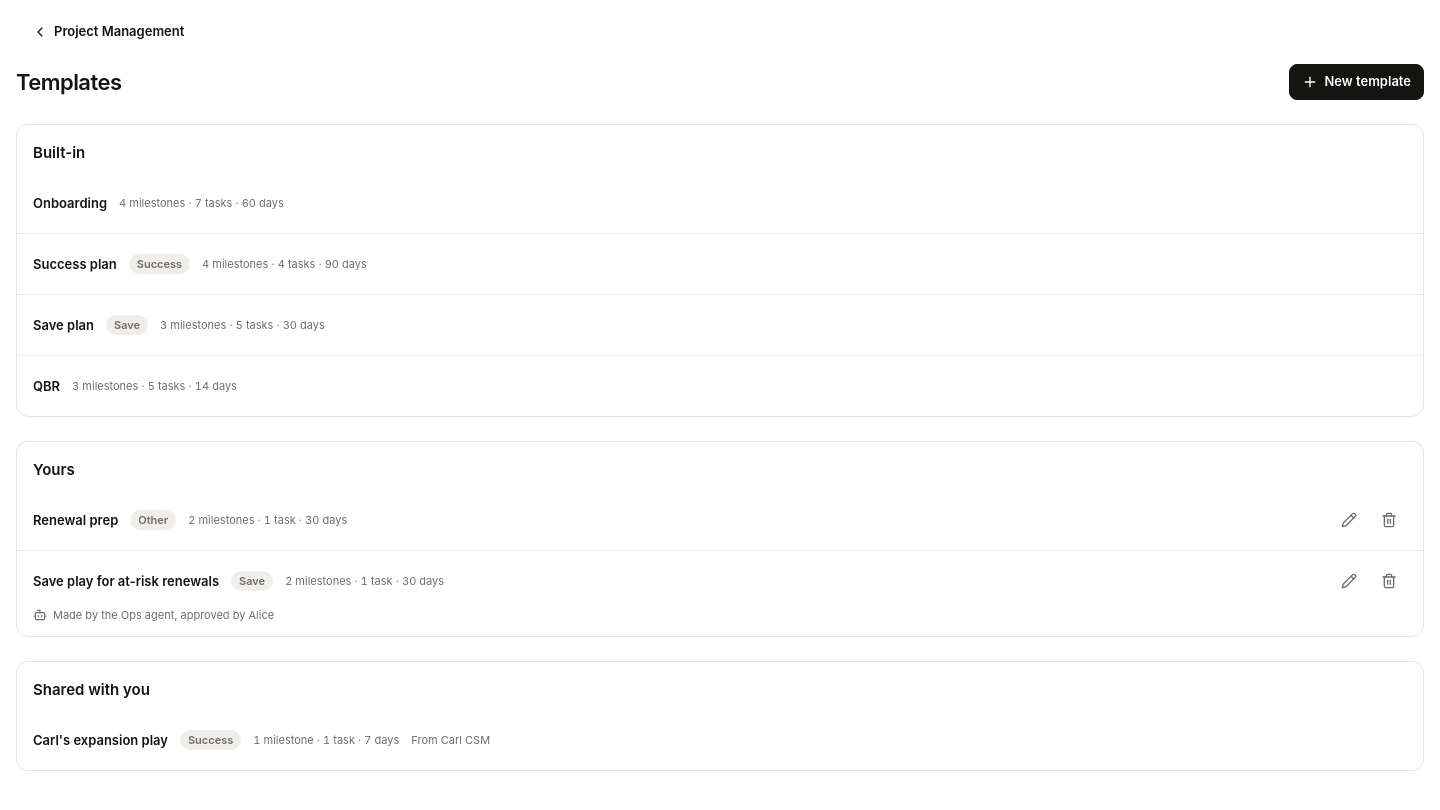
templates (spec §2.4) › says an agent wrote a template, on its row and in its editor (Agents delivery 3)
Expected: the element showing "Made by the Ops agent, approved by Alice" is shown, [33,608,274,622]
Click the link named "Edit Save play for at-risk renewals" at (1349, 581), box [1341,573,1357,589]
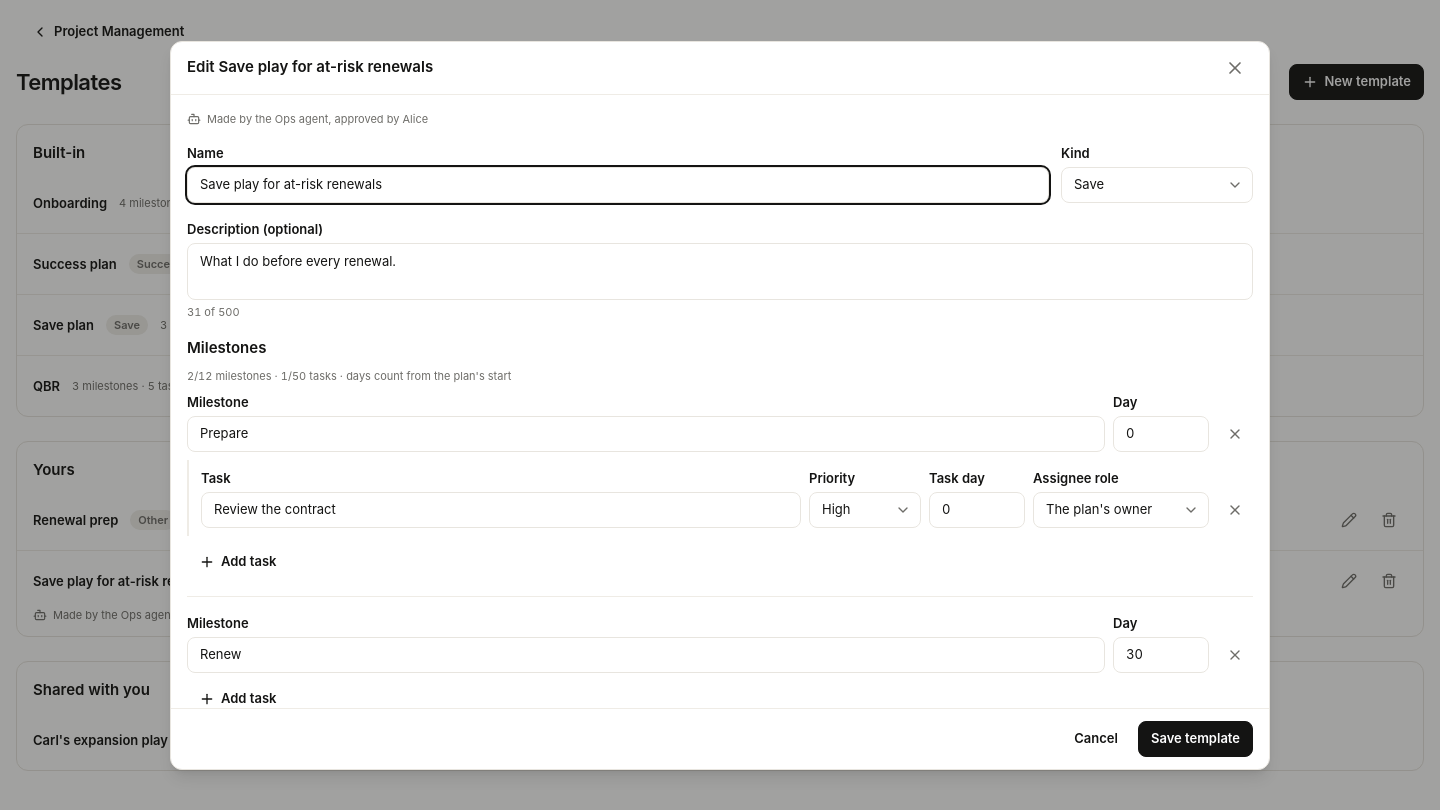
Result: the element showing "Made by the Ops agent, approved by Alice" is shown at [187,112,428,126]
